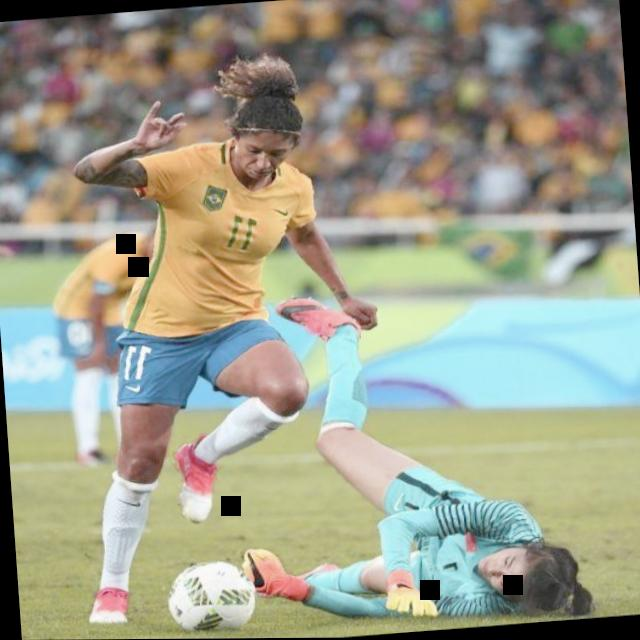Fall-Detected: (233, 259, 616, 639)
